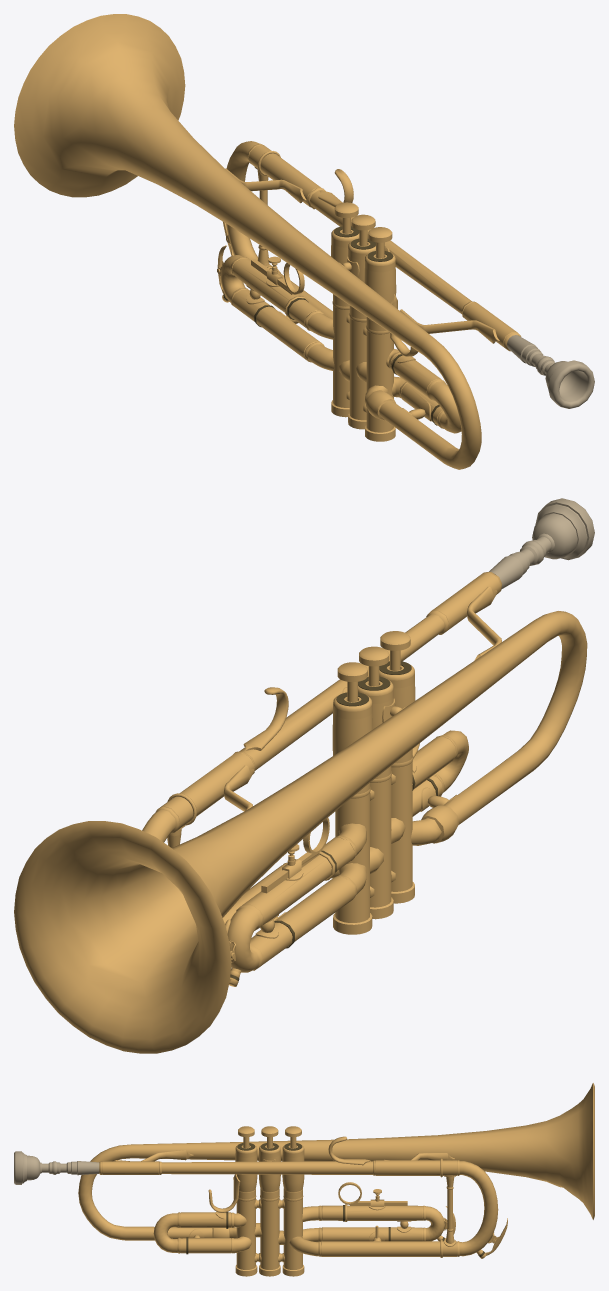
Rendered from Trompeta.FBX.
3 renders of one model, top to bottom at view 1: azimuth 30°, elevation 25°; view 2: azimuth 150°, elevation 25°; view 3: azimuth 270°, elevation 25°, orthographic. The views are drawn at different scales.
Visible parts, largest first — view 1: TRUBRAS, TRUARG, TRUBRAS2; view 2: TRUBRAS, TRUARG, TRUBRAS2, TRUPEL; view 3: TRUBRAS, TRUARG, TRUBRAS2, TRUPEL.
Boxes of the visible parts, x1=… form: TRUBRAS: x1=14, y1=14, x2=521, y2=469; TRUARG: x1=507, y1=335, x2=594, y2=408; TRUBRAS2: x1=218, y1=236, x2=395, y2=441; TRUBRAS: x1=14, y1=572, x2=587, y2=1053; TRUARG: x1=489, y1=498, x2=594, y2=589; TRUBRAS2: x1=231, y1=673, x2=414, y2=958; TRUPEL: x1=336, y1=661, x2=411, y2=706; TRUBRAS: x1=78, y1=1083, x2=594, y2=1270; TRUARG: x1=14, y1=1151, x2=99, y2=1184; TRUBRAS2: x1=235, y1=1149, x2=495, y2=1276; TRUPEL: x1=237, y1=1143, x2=302, y2=1150.
Bounding box in the file's own units: 1824 × 2502 × 7657.
